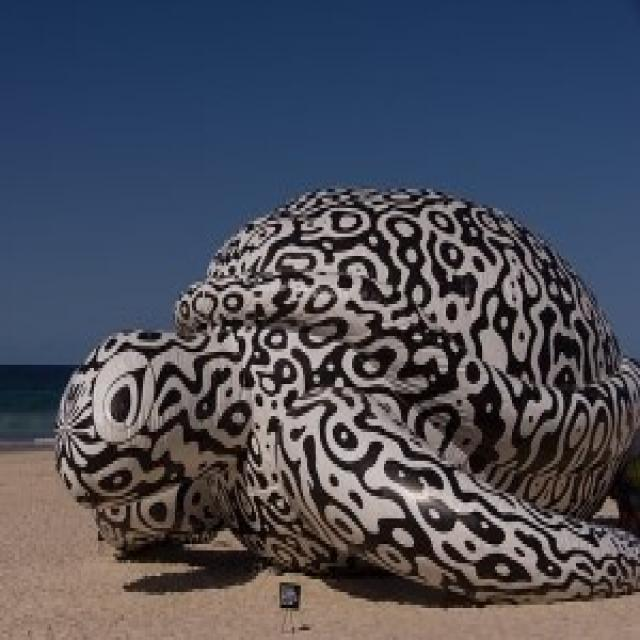Sea turtle: (37, 162, 640, 640)
